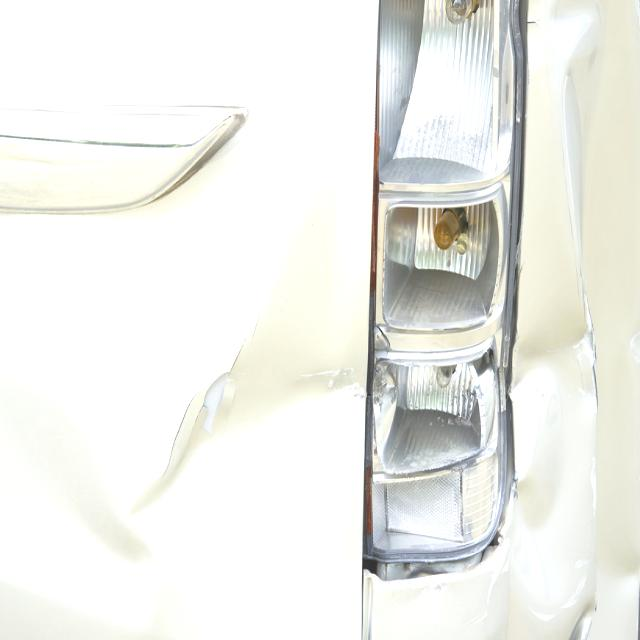Cabossage: (244, 218, 362, 640), (0, 385, 157, 640), (507, 345, 597, 625), (160, 398, 243, 549), (527, 0, 622, 98)
Phare abime: (364, 0, 530, 582)
Rayure: (318, 540, 602, 640), (158, 325, 259, 479), (554, 75, 600, 392), (291, 349, 361, 422)
